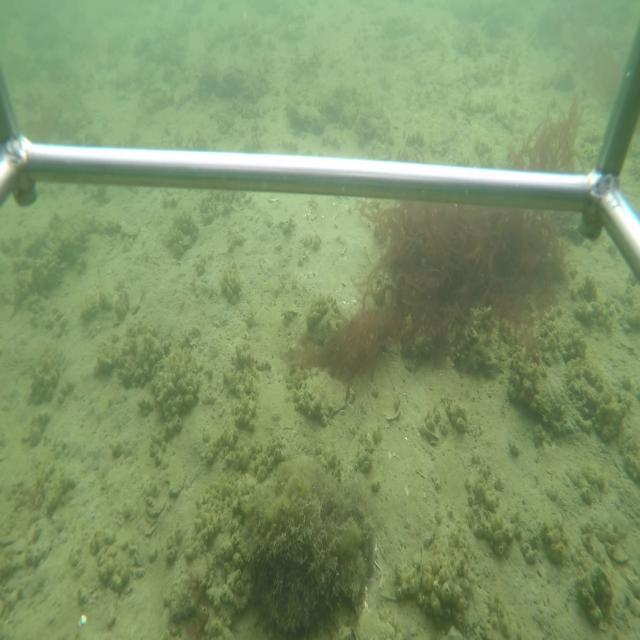Oyster-Indeterminate: (295, 367, 352, 418)
